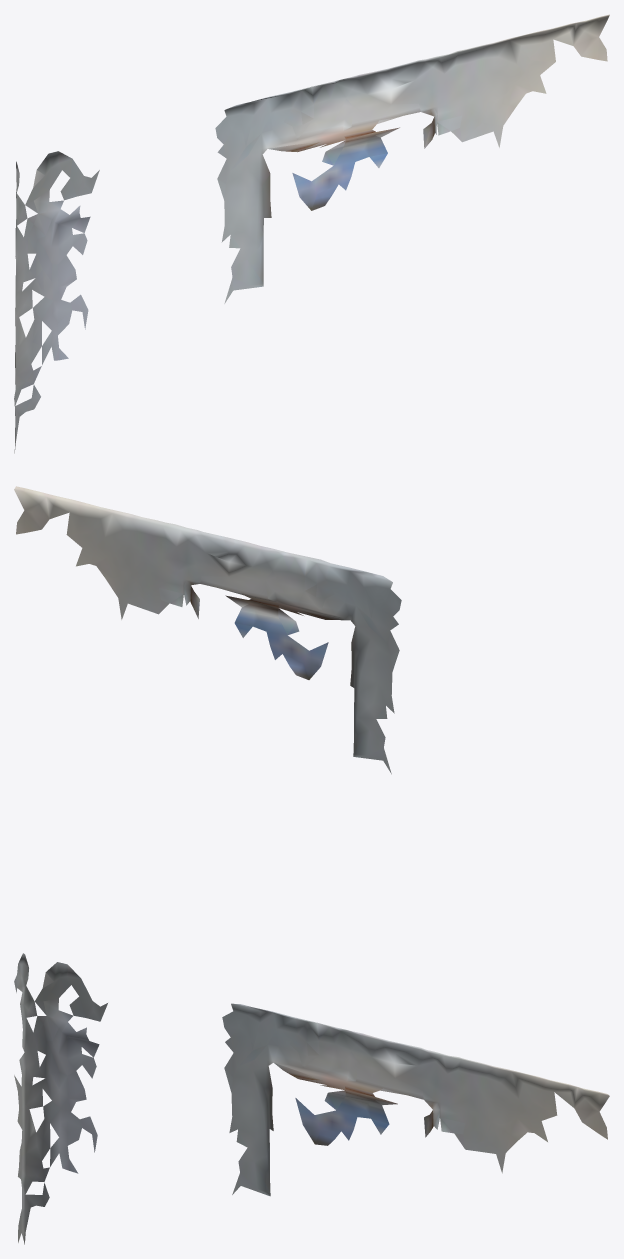
File: rtab_gt_textured.glb
3 renders of one model, top to bottom at view 1: azimuth 30°, elevation 25°; view 2: azimuth 150°, elevation 25°; view 3: azimuth 330°, elevation 25°, orthographic.
Parts seen in each view (by area): view 1: Node; view 2: Node; view 3: Node.
Part boxes in pixels (x1=…): Node: x1=14, y1=14, x2=609, y2=453; Node: x1=14, y1=486, x2=401, y2=774; Node: x1=14, y1=953, x2=609, y2=1244.
Size of the model in its own units: 4.81 by 2.31 by 0.1519.
1 material, 1 textured.
